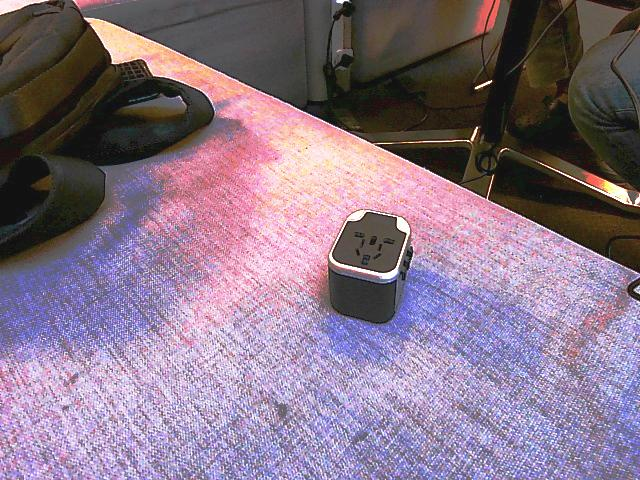adapter: (326, 208, 414, 324)
